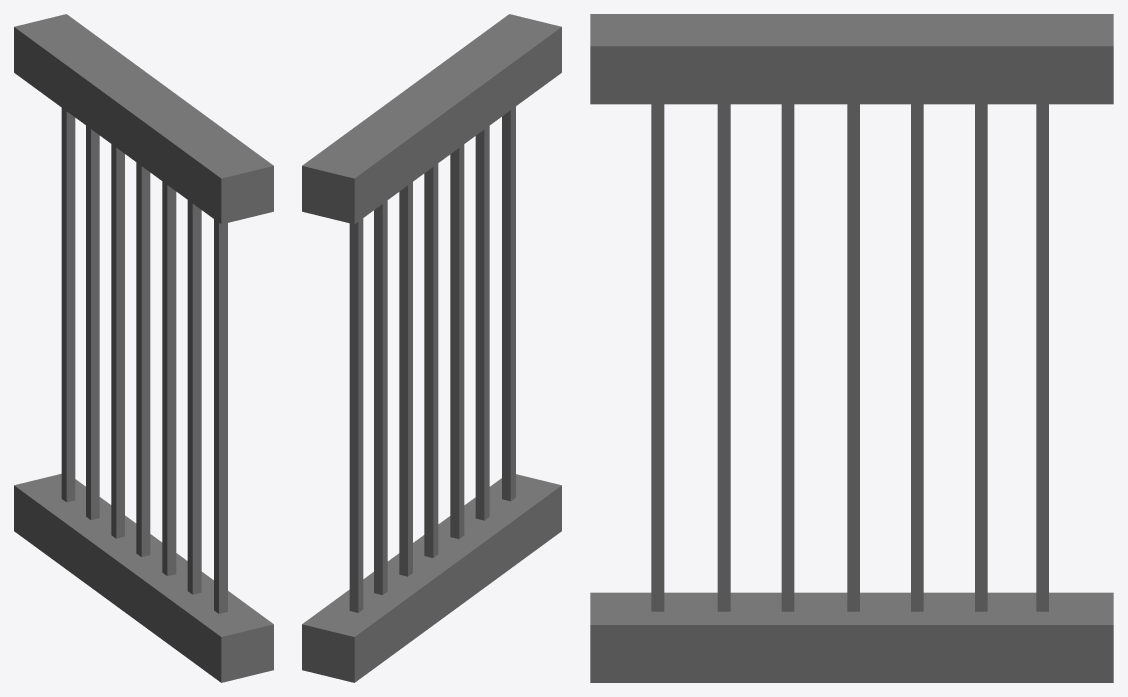
File: oli.fbx
The picture shows the model from 3 angles, left to right: view 1: azimuth 30°, elevation 25°; view 2: azimuth 150°, elevation 25°; view 3: azimuth 270°, elevation 25°; orthographic projection. The views are drawn at different scales.
Visible parts, largest first — view 1: Cube.001, 立方体, 立方体.004, 立方体.008, 立方体.009, 立方体.010, 立方体.011, 立方体.003, 立方体.006; view 2: Cube.001, 立方体, 立方体.008, 立方体.010, 立方体.004, 立方体.009, 立方体.006, 立方体.011, 立方体.003; view 3: Cube.001, 立方体, 立方体.009, 立方体.010, 立方体.011, 立方体.003, 立方体.004, 立方体.006, 立方体.008.
Part boxes in pixels (x1,y1,x2,y2): Cube.001: [14, 14, 273, 224]; 立方体: [14, 473, 273, 682]; 立方体.004: [136, 162, 150, 557]; 立方体.008: [61, 108, 75, 502]; 立方体.009: [187, 200, 201, 594]; 立方体.010: [162, 181, 176, 576]; 立方体.011: [214, 219, 227, 613]; 立方体.003: [111, 144, 124, 538]; 立方体.006: [86, 125, 99, 519]; Cube.001: [302, 14, 561, 224]; 立方体: [302, 474, 561, 682]; 立方体.008: [349, 218, 363, 612]; 立方体.010: [450, 144, 464, 538]; 立方体.004: [424, 163, 438, 557]; 立方体.009: [475, 126, 489, 520]; 立方体.006: [374, 200, 387, 594]; 立方体.011: [502, 106, 515, 501]; 立方体.003: [399, 182, 412, 576]; Cube.001: [590, 14, 1113, 104]; 立方体: [590, 592, 1113, 682]; 立方体.009: [717, 104, 730, 611]; 立方体.010: [781, 104, 794, 611]; 立方体.011: [651, 104, 664, 611]; 立方体.003: [911, 104, 923, 611]; 立方体.004: [847, 104, 859, 611]; 立方体.006: [975, 104, 987, 611]; 立方体.008: [1036, 104, 1048, 611].
Size of the model in its own units: 6 by 55 by 41.
Materials: 9 (9 with a texture image).
